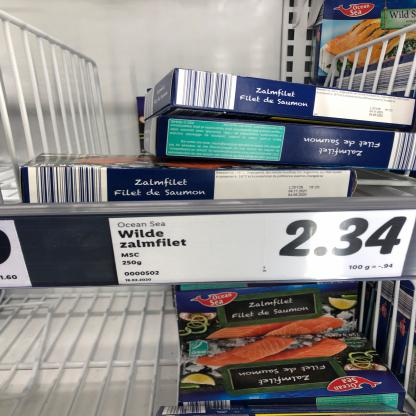prtg: (109, 210, 415, 286)
